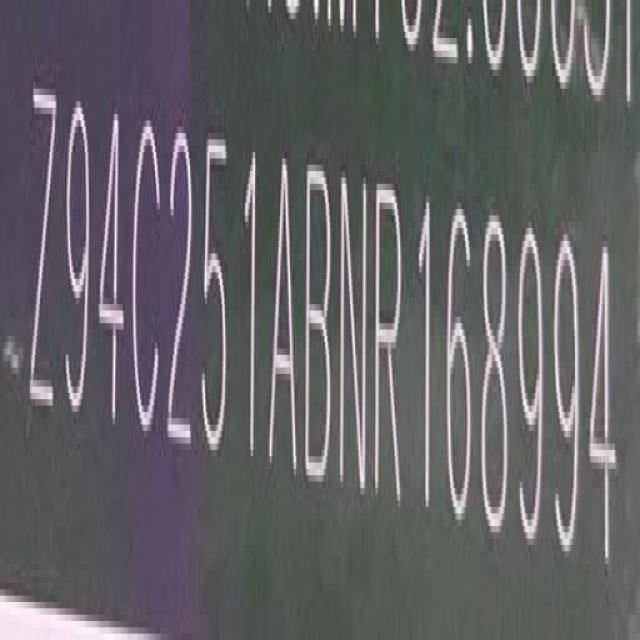1: (418, 193, 437, 516), (242, 135, 260, 473)
2: (166, 117, 196, 456)
4: (589, 237, 620, 574), (98, 97, 127, 429)
5: (202, 123, 229, 467)
6: (446, 200, 474, 527)
8: (482, 209, 509, 532)
9: (517, 226, 547, 549), (63, 90, 91, 427), (552, 229, 580, 564)
A: (268, 146, 299, 482)
B: (305, 153, 334, 485)
C: (132, 108, 163, 449)
N: (340, 164, 370, 497)
R: (374, 170, 403, 504)
Z: (30, 78, 59, 418)
